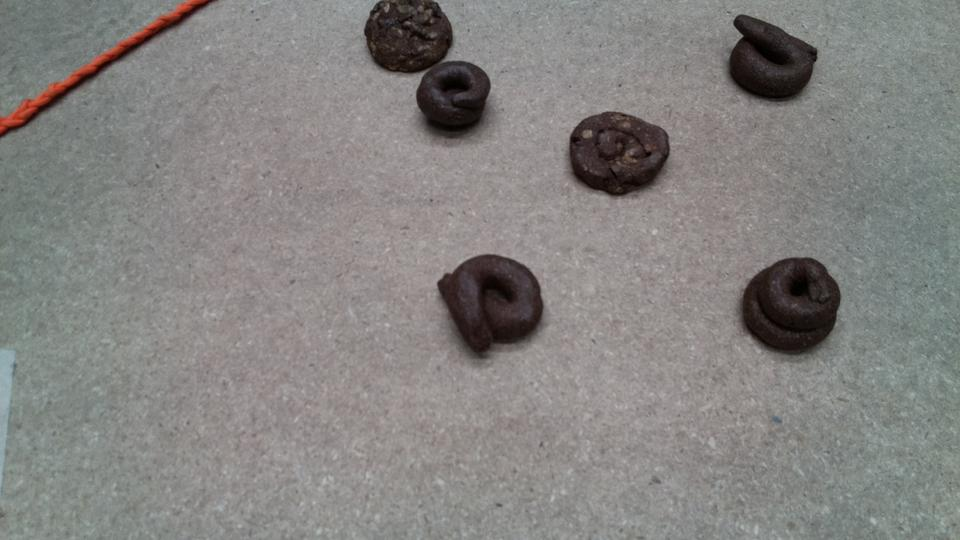poop: (738, 237, 843, 365), (431, 249, 551, 357), (569, 102, 677, 201), (724, 9, 823, 107), (361, 1, 452, 78), (417, 60, 493, 135)
rope: (101, 1, 225, 64), (1, 78, 94, 137), (63, 49, 130, 91)
